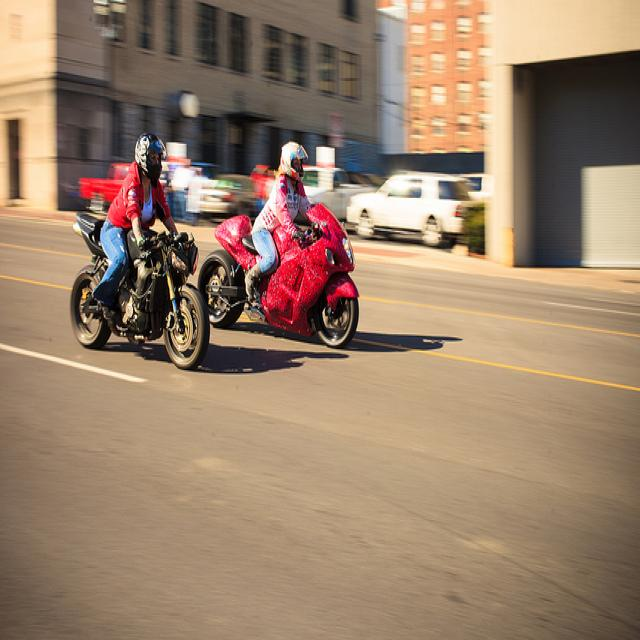motor: (197, 201, 358, 348), (68, 213, 211, 369)
